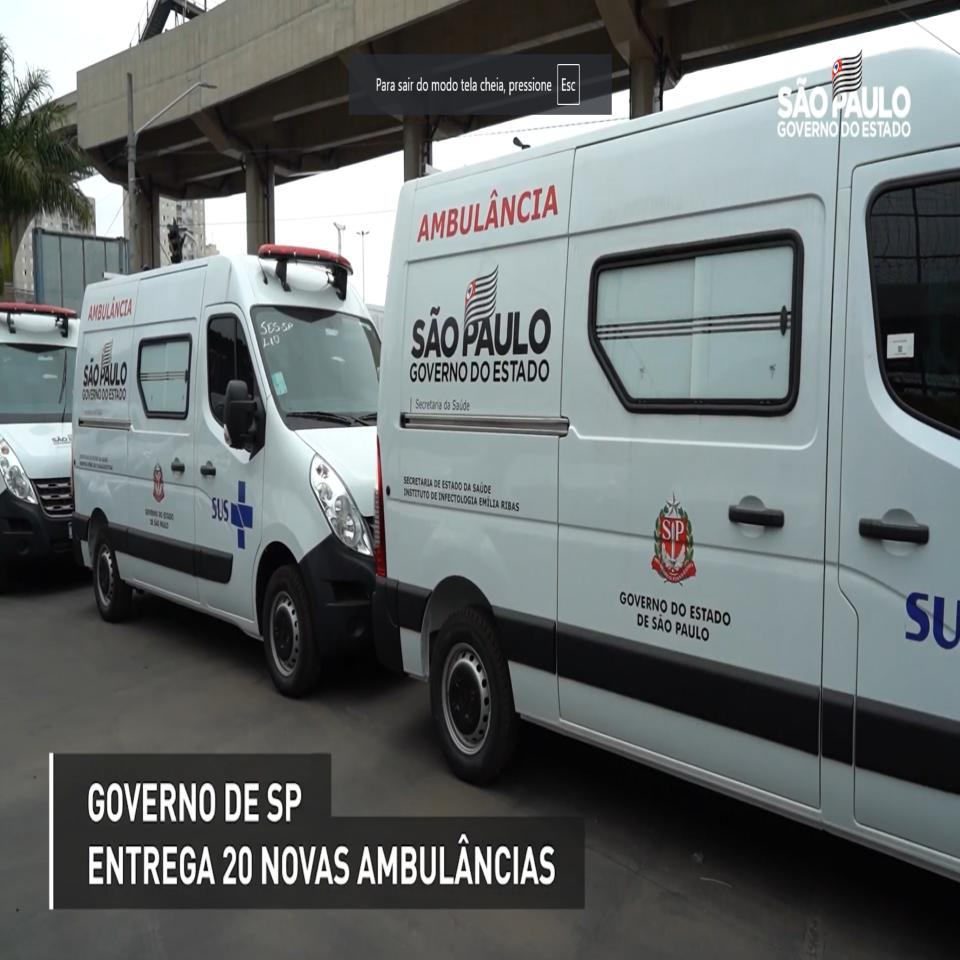bombeiro: (66, 238, 381, 701)
